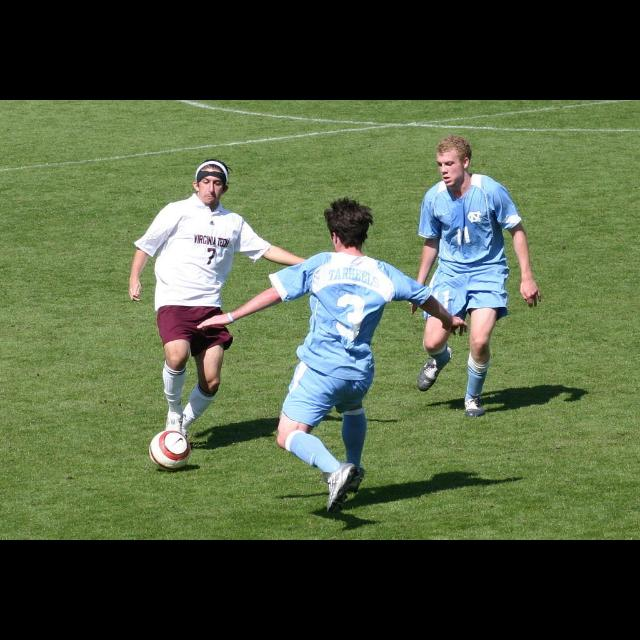Football: (146, 428, 190, 470)
